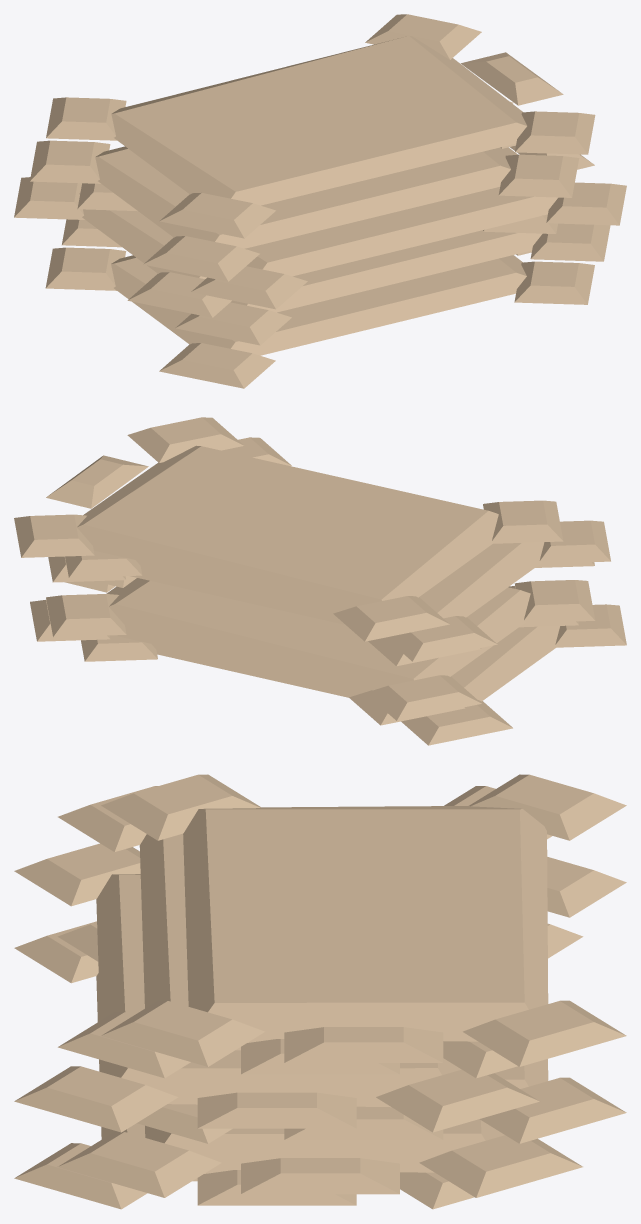
File: item_070_goat_hide_l.glb
3 views of the same model, one above another, from view 1: azimuth 30°, elevation 25°; view 2: azimuth 150°, elevation 25°; view 3: azimuth 270°, elevation 25° (orthographic). The views are drawn at different scales.
Visible parts, largest first — view 1: item_070_goat_hide_l; view 2: item_070_goat_hide_l; view 3: item_070_goat_hide_l.
Boxes of the visible parts, left/top/right/bottom form: item_070_goat_hide_l: left=14, top=14, right=626, bottom=388; item_070_goat_hide_l: left=14, top=417, right=626, bottom=745; item_070_goat_hide_l: left=14, top=774, right=626, bottom=1209.
Bounding box in the file's own units: 1.03 × 0.2831 × 0.8476.
